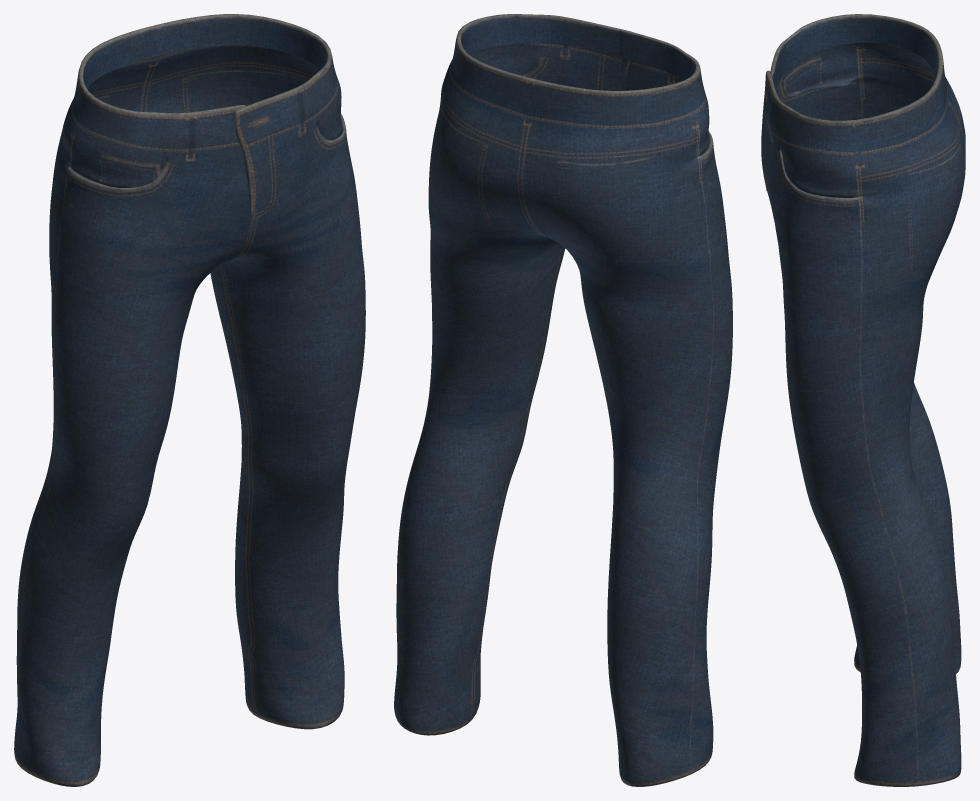
File: jeans.glb
3 views of the same model, side by side, from view 1: azimuth 30°, elevation 25°; view 2: azimuth 150°, elevation 25°; view 3: azimuth 270°, elevation 25° (orthographic). The views are drawn at different scales.
Visible parts, largest first — view 1: Cube.004_Trousers3_0; view 2: Cube.004_Trousers3_0; view 3: Cube.004_Trousers3_0.
Boxes of the visible parts, x1,y1,x2,y2 form: Cube.004_Trousers3_0: (14,14,365,786); Cube.004_Trousers3_0: (394,14,732,786); Cube.004_Trousers3_0: (761,14,965,786).
Bounding box in the file's own units: 0.3651 × 0.7821 × 0.2191.
Materials: 1 (1 with a texture image).
